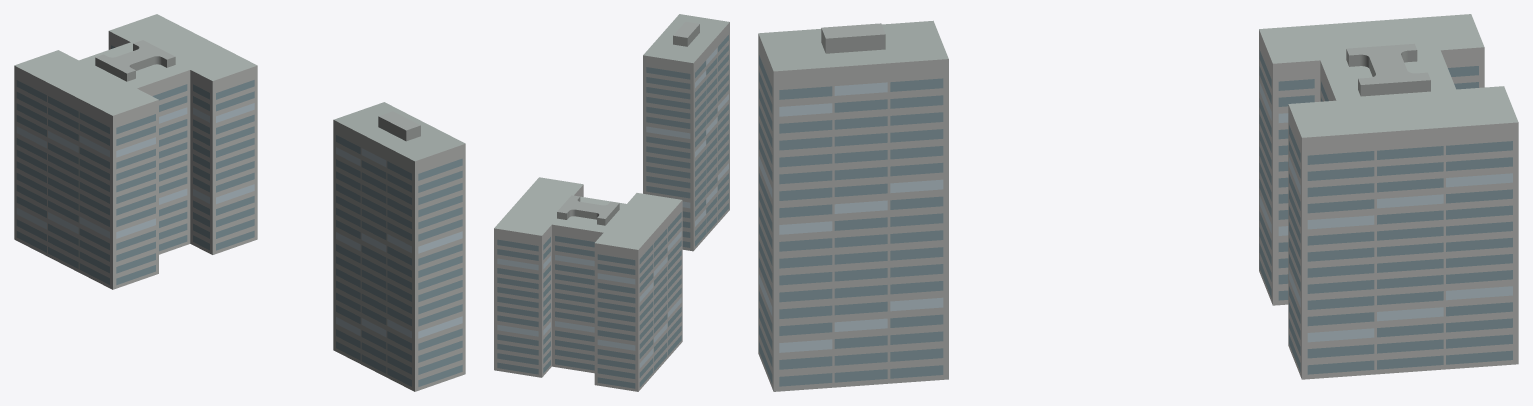
Rendered from apt-a13611001.glb.
3 views of the same model, side by side, from view 1: azimuth 30°, elevation 25°; view 2: azimuth 150°, elevation 25°; view 3: azimuth 270°, elevation 25° (orthographic). The views are drawn at different scales.
Visible parts, largest first — view 1: apt-a13611001; view 2: apt-a13611001; view 3: apt-a13611001.
Part boxes in pixels (<box>): apt-a13611001: <box>14,14,465,391</box>; apt-a13611001: <box>494,14,729,391</box>; apt-a13611001: <box>758,14,1518,391</box>.
Size of the model in its own units: 46.1 by 53 by 109.
